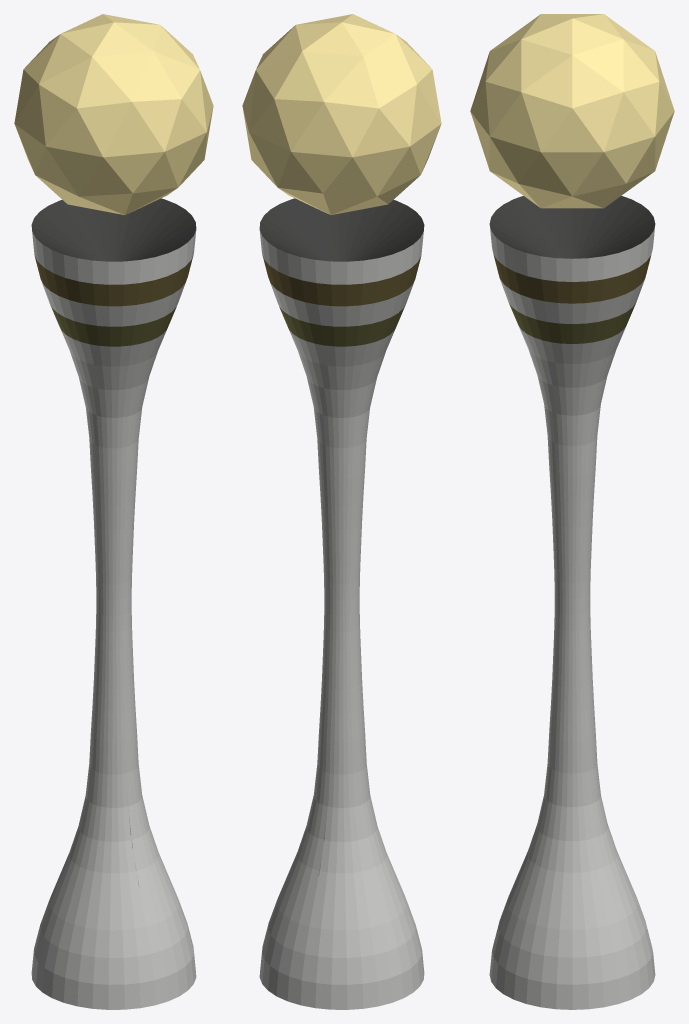
The model's file is beacon.obj.
3 renders of one model, left to right at view 1: azimuth 30°, elevation 25°; view 2: azimuth 150°, elevation 25°; view 3: azimuth 270°, elevation 25°, orthographic.
Parts seen in each view (by area): view 1: Cylinder; view 2: Cylinder; view 3: Cylinder.
Part boxes in pixels (x1=…): Cylinder: x1=14, y1=14, x2=213, y2=1009; Cylinder: x1=242, y1=14, x2=441, y2=1009; Cylinder: x1=470, y1=14, x2=674, y2=1009.
Bounding box in the file's own units: 0.7038 × 3.82 × 0.74.
Materials: 1 (1 with a texture image).
